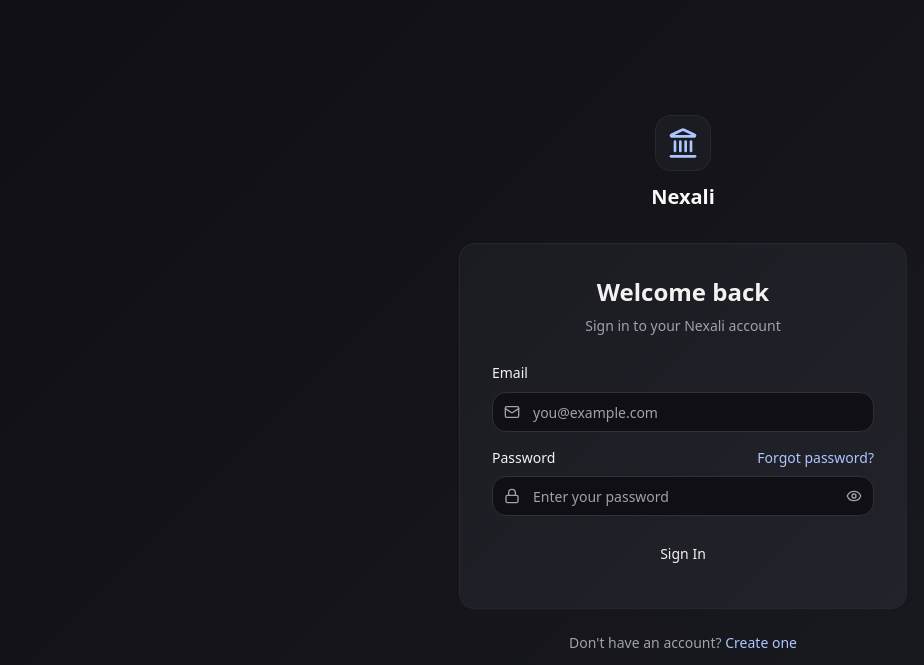
SignIn › disables the submit button and shows a loading label while the request is pending
Type "jane@example.com" into the field labelled "Email" at (683, 412), box 492,392 -> 874,432
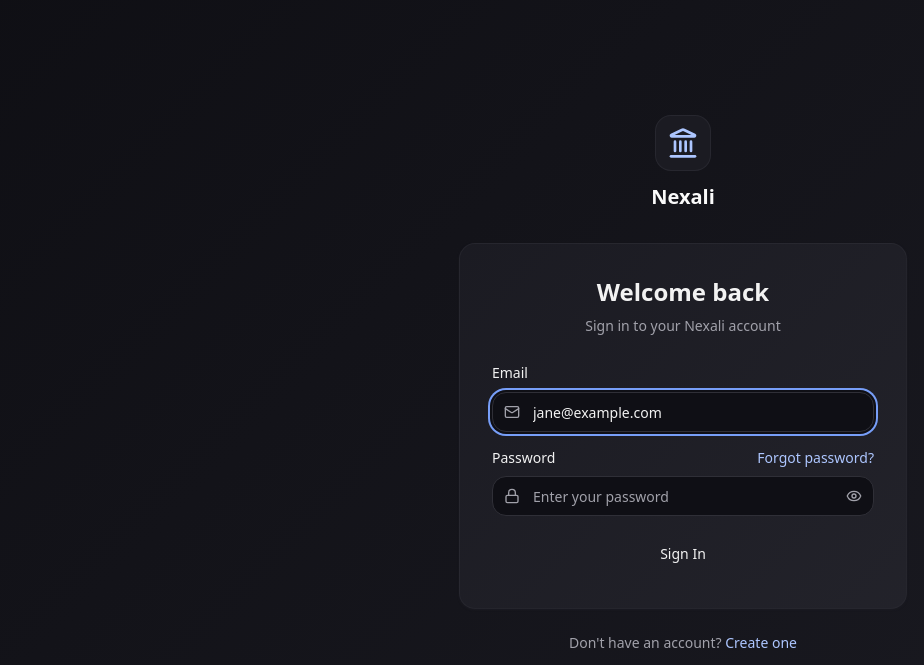
Type "hunter22" into the password field labelled "Password" at (683, 496), box 492,476 -> 874,516
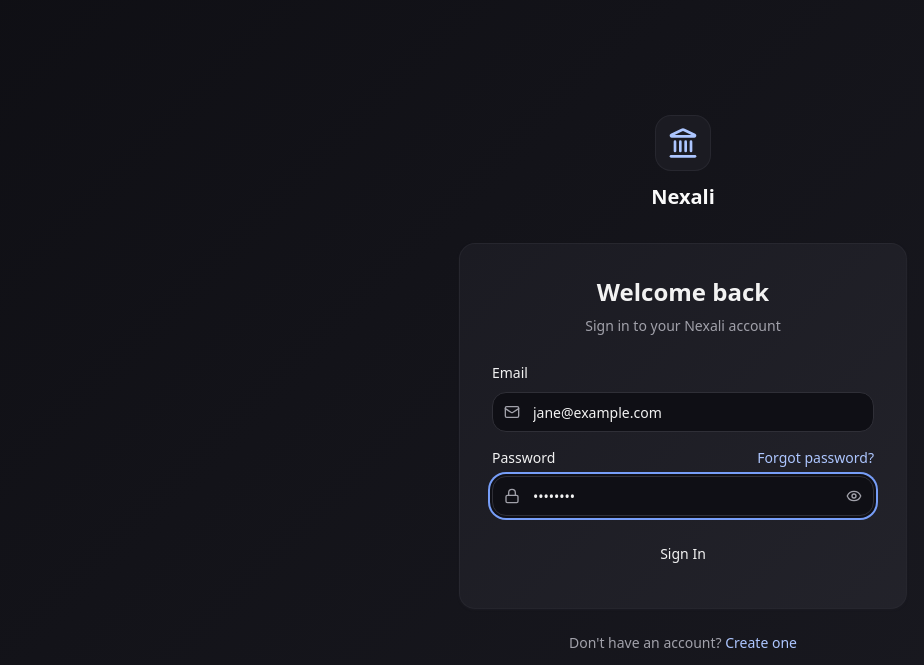
Click the button "Sign In" at (683, 554), box 492,532 -> 874,576
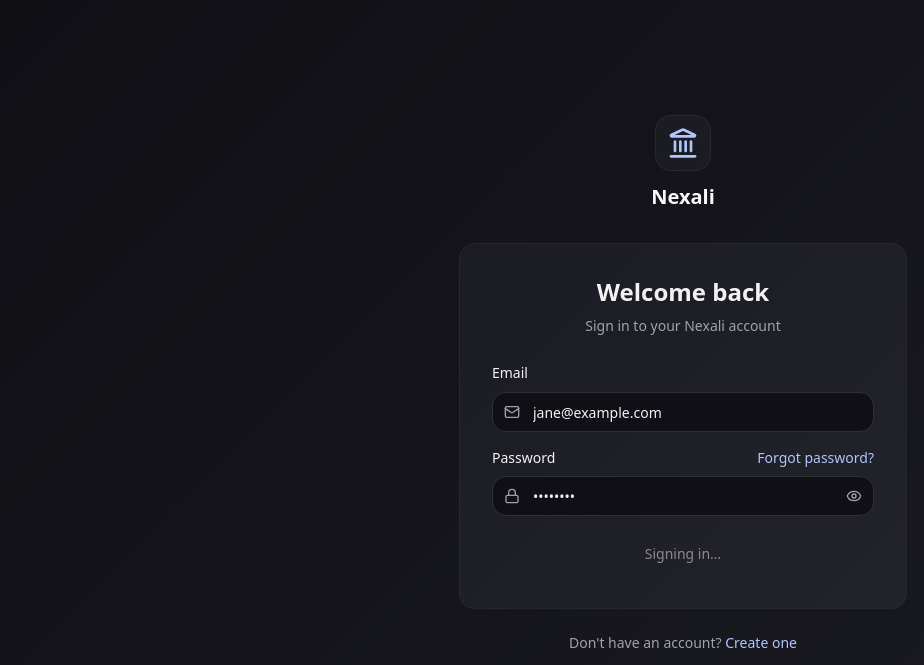
Expected: the button "Signing in…" is disabled, 492,532 -> 874,576
